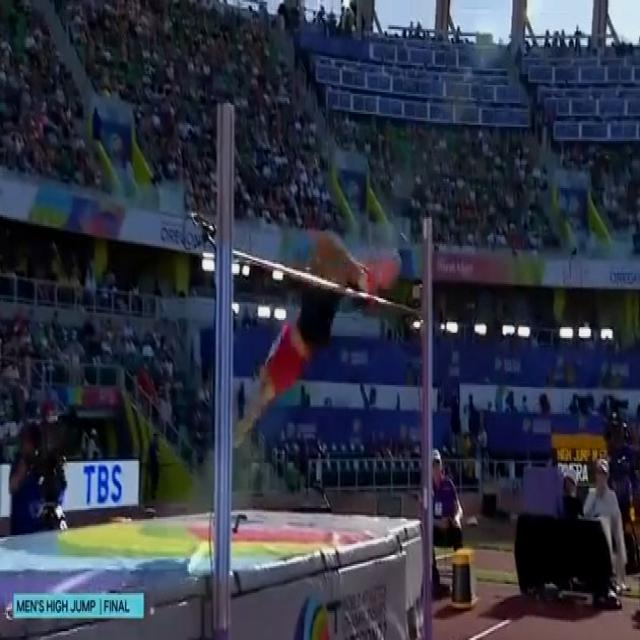jump: (231, 225, 399, 453)
